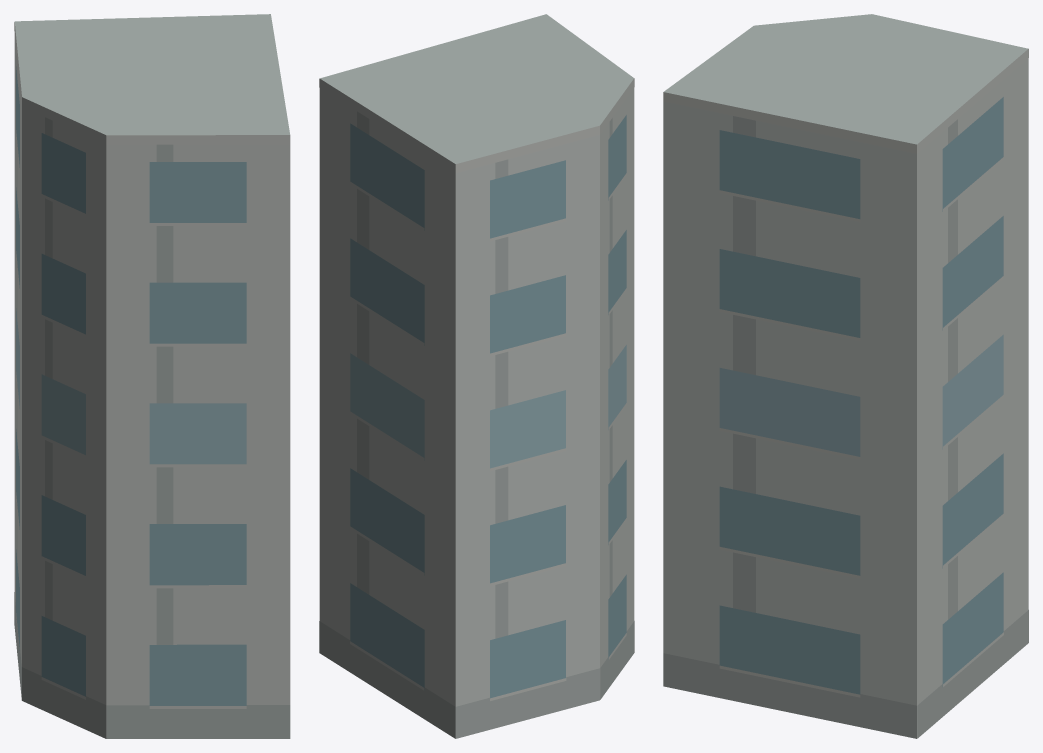
Rendered from residential-90e926f3-76b5-4226-bccd-eaeff13d8e28.glb.
3 views of the same model, side by side, from view 1: azimuth 30°, elevation 25°; view 2: azimuth 150°, elevation 25°; view 3: azimuth 270°, elevation 25° (orthographic). The views are drawn at different scales.
Parts seen in each view (by area): view 1: residential-90e926f3-76b5-4226-bccd-eaeff13d8e28.tmp; view 2: residential-90e926f3-76b5-4226-bccd-eaeff13d8e28.tmp; view 3: residential-90e926f3-76b5-4226-bccd-eaeff13d8e28.tmp.
Boxes of the visible parts, left/top/right/bottom form: residential-90e926f3-76b5-4226-bccd-eaeff13d8e28.tmp: left=14, top=14, right=290, bottom=738; residential-90e926f3-76b5-4226-bccd-eaeff13d8e28.tmp: left=319, top=14, right=634, bottom=738; residential-90e926f3-76b5-4226-bccd-eaeff13d8e28.tmp: left=663, top=14, right=1028, bottom=738.
Size of the model in its own units: 7.19 by 15.25 by 8.5.
